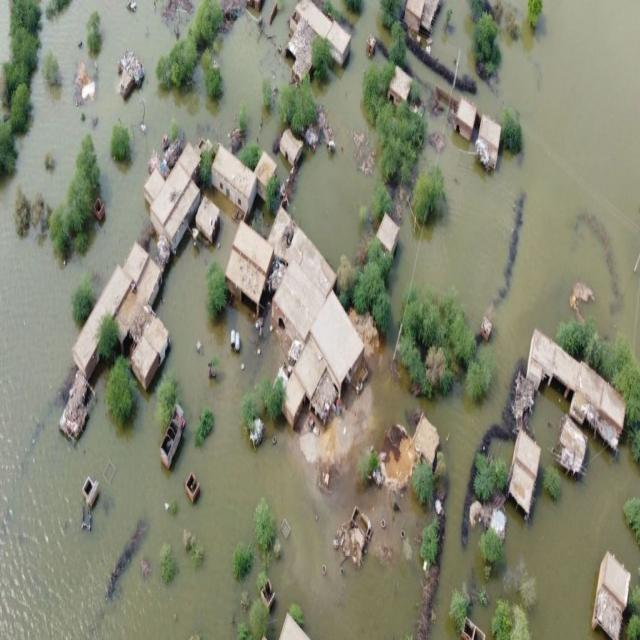flood: (0, 0, 640, 640), (288, 0, 393, 268), (507, 437, 640, 640)
house: (270, 233, 372, 415), (518, 316, 625, 489), (64, 248, 182, 378), (142, 143, 202, 261), (287, 0, 354, 78), (591, 548, 632, 640), (214, 142, 255, 220), (400, 0, 441, 39)
